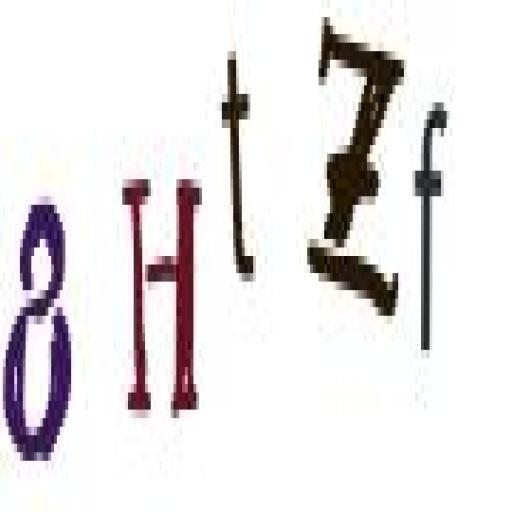8: (1, 159, 77, 484)
H: (120, 158, 206, 432)
Z: (304, 11, 408, 336)
f: (410, 77, 449, 364)
t: (217, 40, 265, 292)
